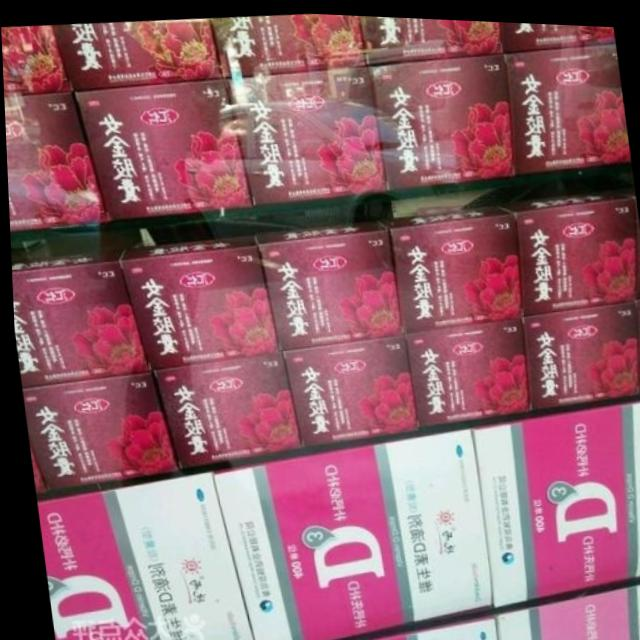box: (208, 423, 486, 640), (32, 469, 248, 640), (468, 394, 640, 604), (73, 76, 251, 220), (224, 64, 384, 203), (118, 232, 277, 369), (366, 49, 515, 188), (252, 217, 398, 348), (9, 248, 145, 386), (377, 200, 519, 330), (18, 371, 174, 489), (496, 185, 637, 310), (149, 351, 298, 467), (503, 37, 629, 171), (277, 331, 413, 445), (3, 90, 104, 231), (402, 314, 525, 423), (518, 296, 635, 405), (52, 16, 221, 90), (487, 572, 640, 640), (210, 11, 366, 77), (359, 13, 504, 60), (319, 601, 493, 640), (1, 24, 69, 97), (501, 17, 615, 48), (633, 293, 640, 387)
